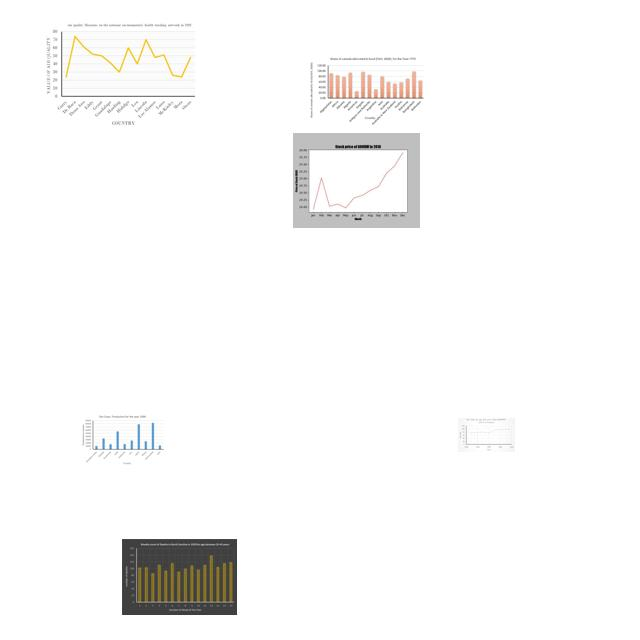Graph: (43, 20, 198, 129), (293, 133, 420, 228), (122, 539, 237, 615), (306, 56, 427, 126), (80, 414, 165, 465), (458, 418, 515, 452)
